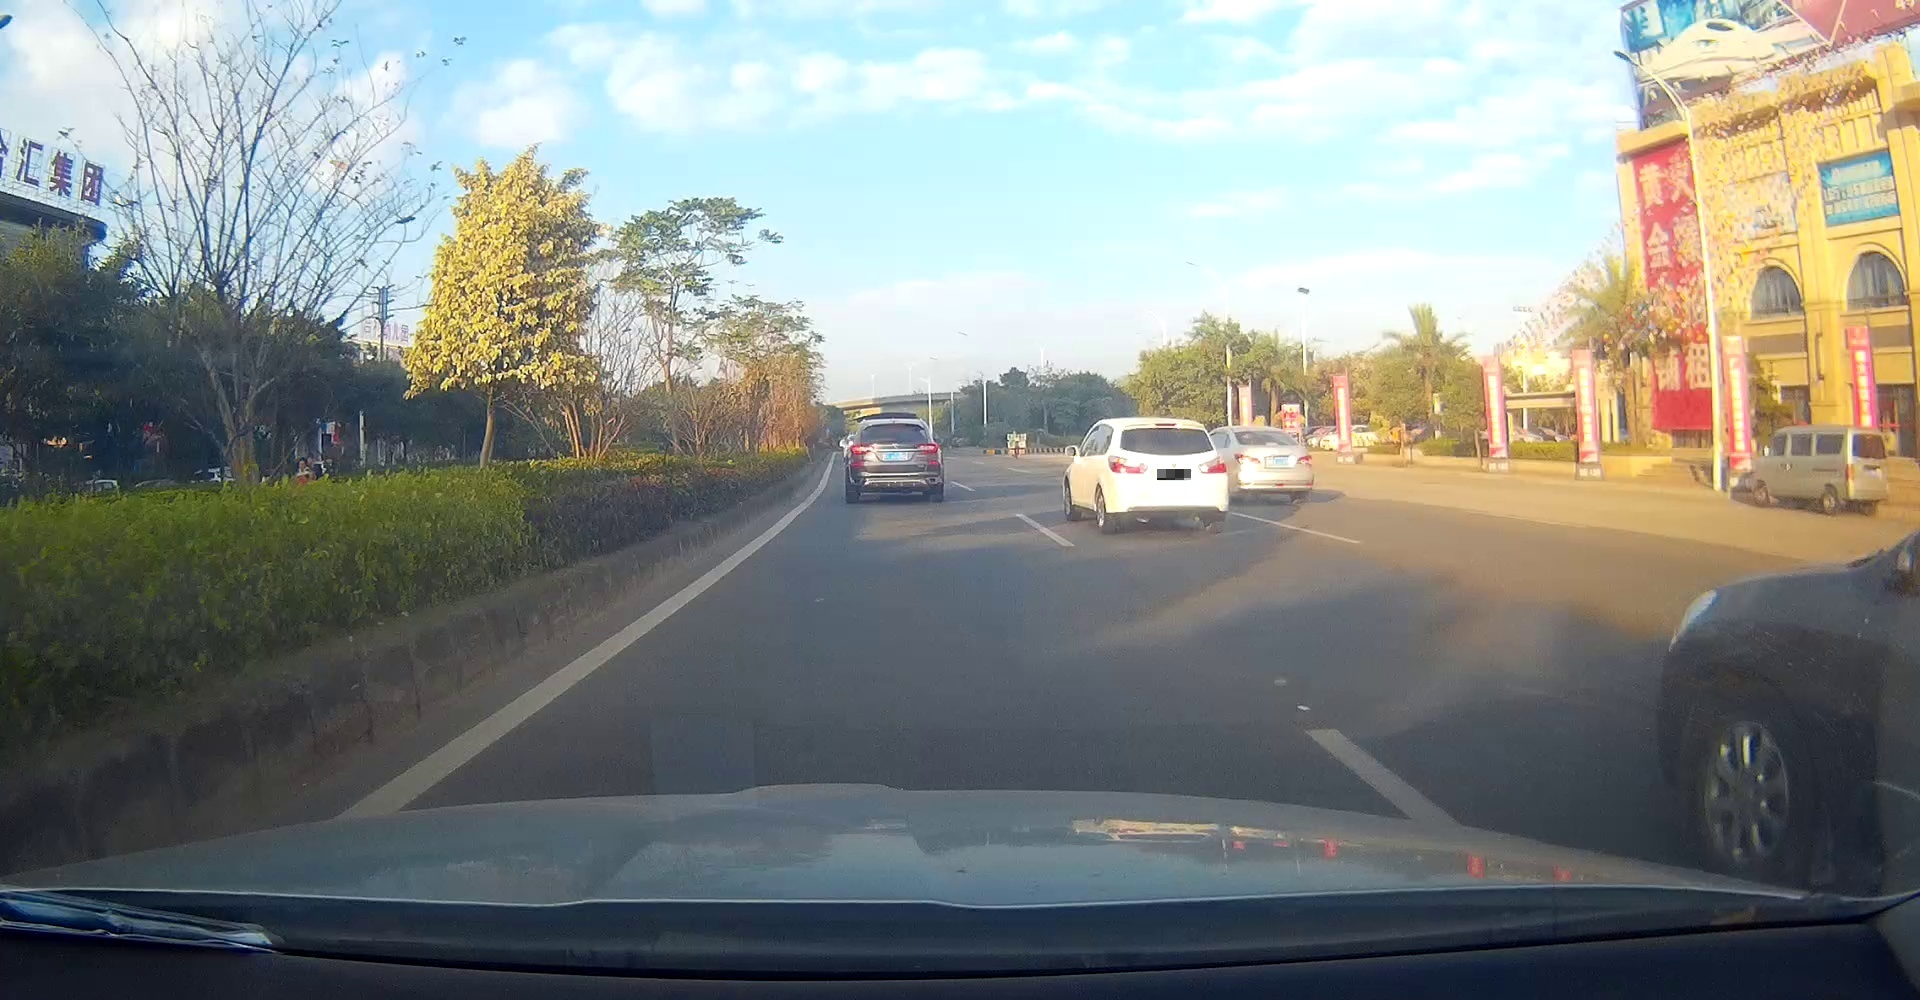L_light: (1107, 456, 1149, 475), (1233, 454, 1261, 466), (848, 445, 874, 454)
R_light: (1197, 456, 1227, 473), (916, 443, 938, 454), (1297, 454, 1313, 464)
T_light: (1156, 423, 1178, 426), (886, 423, 905, 426), (1255, 429, 1269, 433)
day-no: (1105, 418, 1229, 532), (844, 418, 943, 504), (1230, 426, 1314, 501)
plate_1: (1157, 470, 1191, 480)
